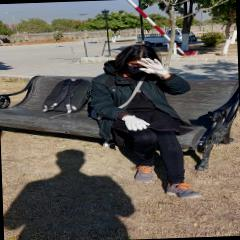gloved: (137, 58, 168, 76), (122, 115, 148, 132)
